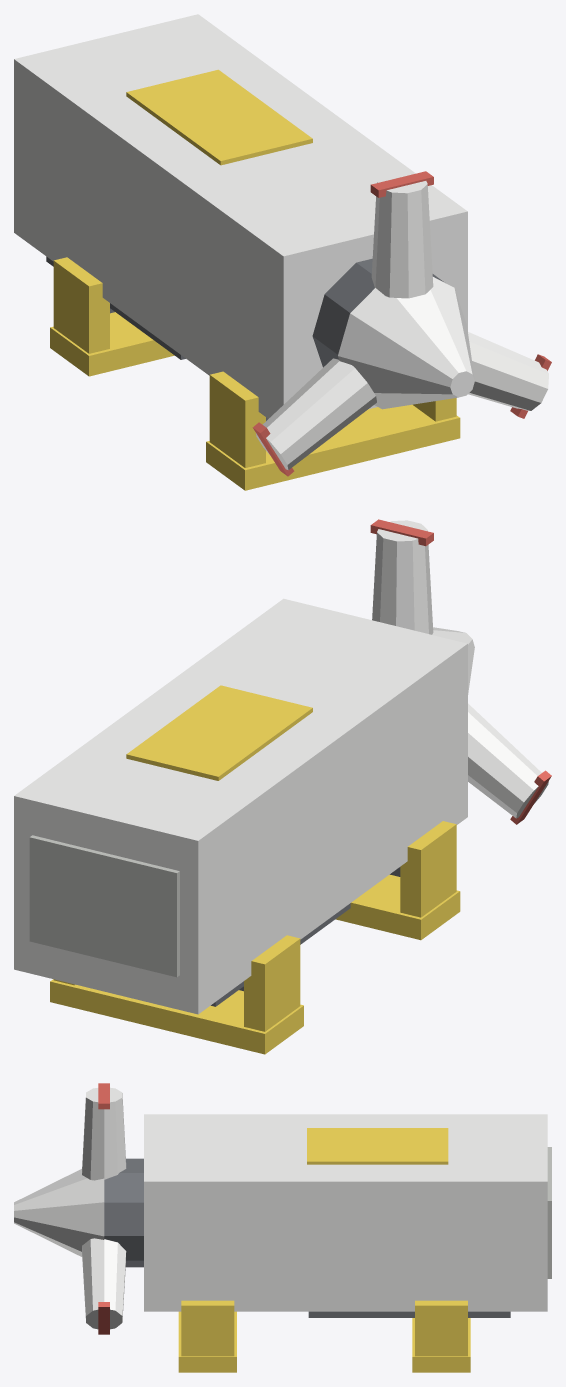
File: wind-and-solar-energy-farm-turbine-nacelle-and-hub-455f4fbf__34047.glb
3 renders of one model, top to bottom at view 1: azimuth 30°, elevation 25°; view 2: azimuth 150°, elevation 25°; view 3: azimuth 270°, elevation 25°, orthographic. The views are drawn at different scales.
Parts seen in each view (by area): view 1: turbine-nacelle-and-hub, rotor/white, rotor/charcoal, rotor/red; view 2: turbine-nacelle-and-hub, rotor/white, rotor/red; view 3: turbine-nacelle-and-hub, rotor/white, rotor/charcoal, rotor/red.
Part boxes in pixels (<box>): turbine-nacelle-and-hub: <box>14,14,467,490</box>; rotor/white: <box>256,172,548,470</box>; rotor/charcoal: <box>312,258,444,367</box>; rotor/red: <box>252,171,551,476</box>; turbine-nacelle-and-hub: <box>14,598,467,1054</box>; rotor/white: <box>372,520,548,818</box>; rotor/red: <box>370,519,551,824</box>; turbine-nacelle-and-hub: <box>144,1114,551,1372</box>; rotor/white: <box>14,1087,126,1329</box>; rotor/charcoal: <box>104,1158,143,1267</box>; rotor/red: <box>98,1083,109,1334</box>.
Bounding box in the file's own units: 4.75 × 4.98 × 10.13.
